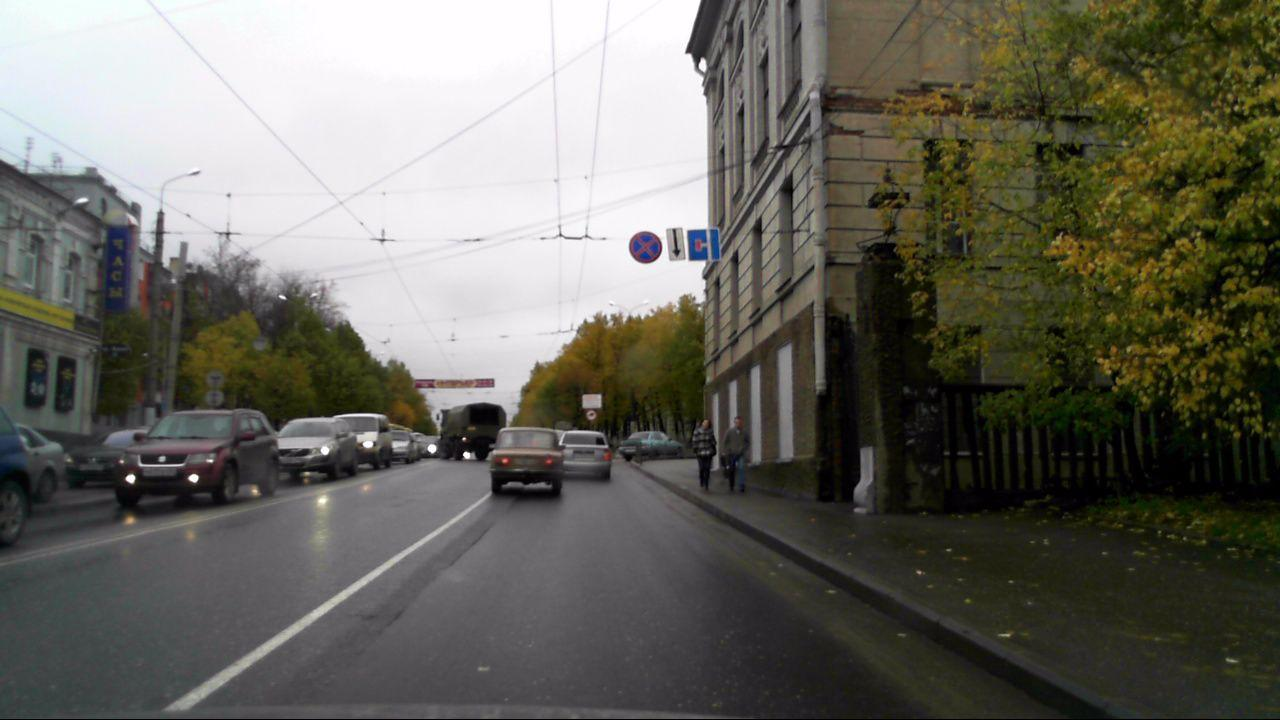3_27: (628, 228, 664, 264)
3_4: (585, 409, 598, 420)
6_8_3: (688, 228, 720, 261)
8_2_3: (666, 227, 687, 261)
